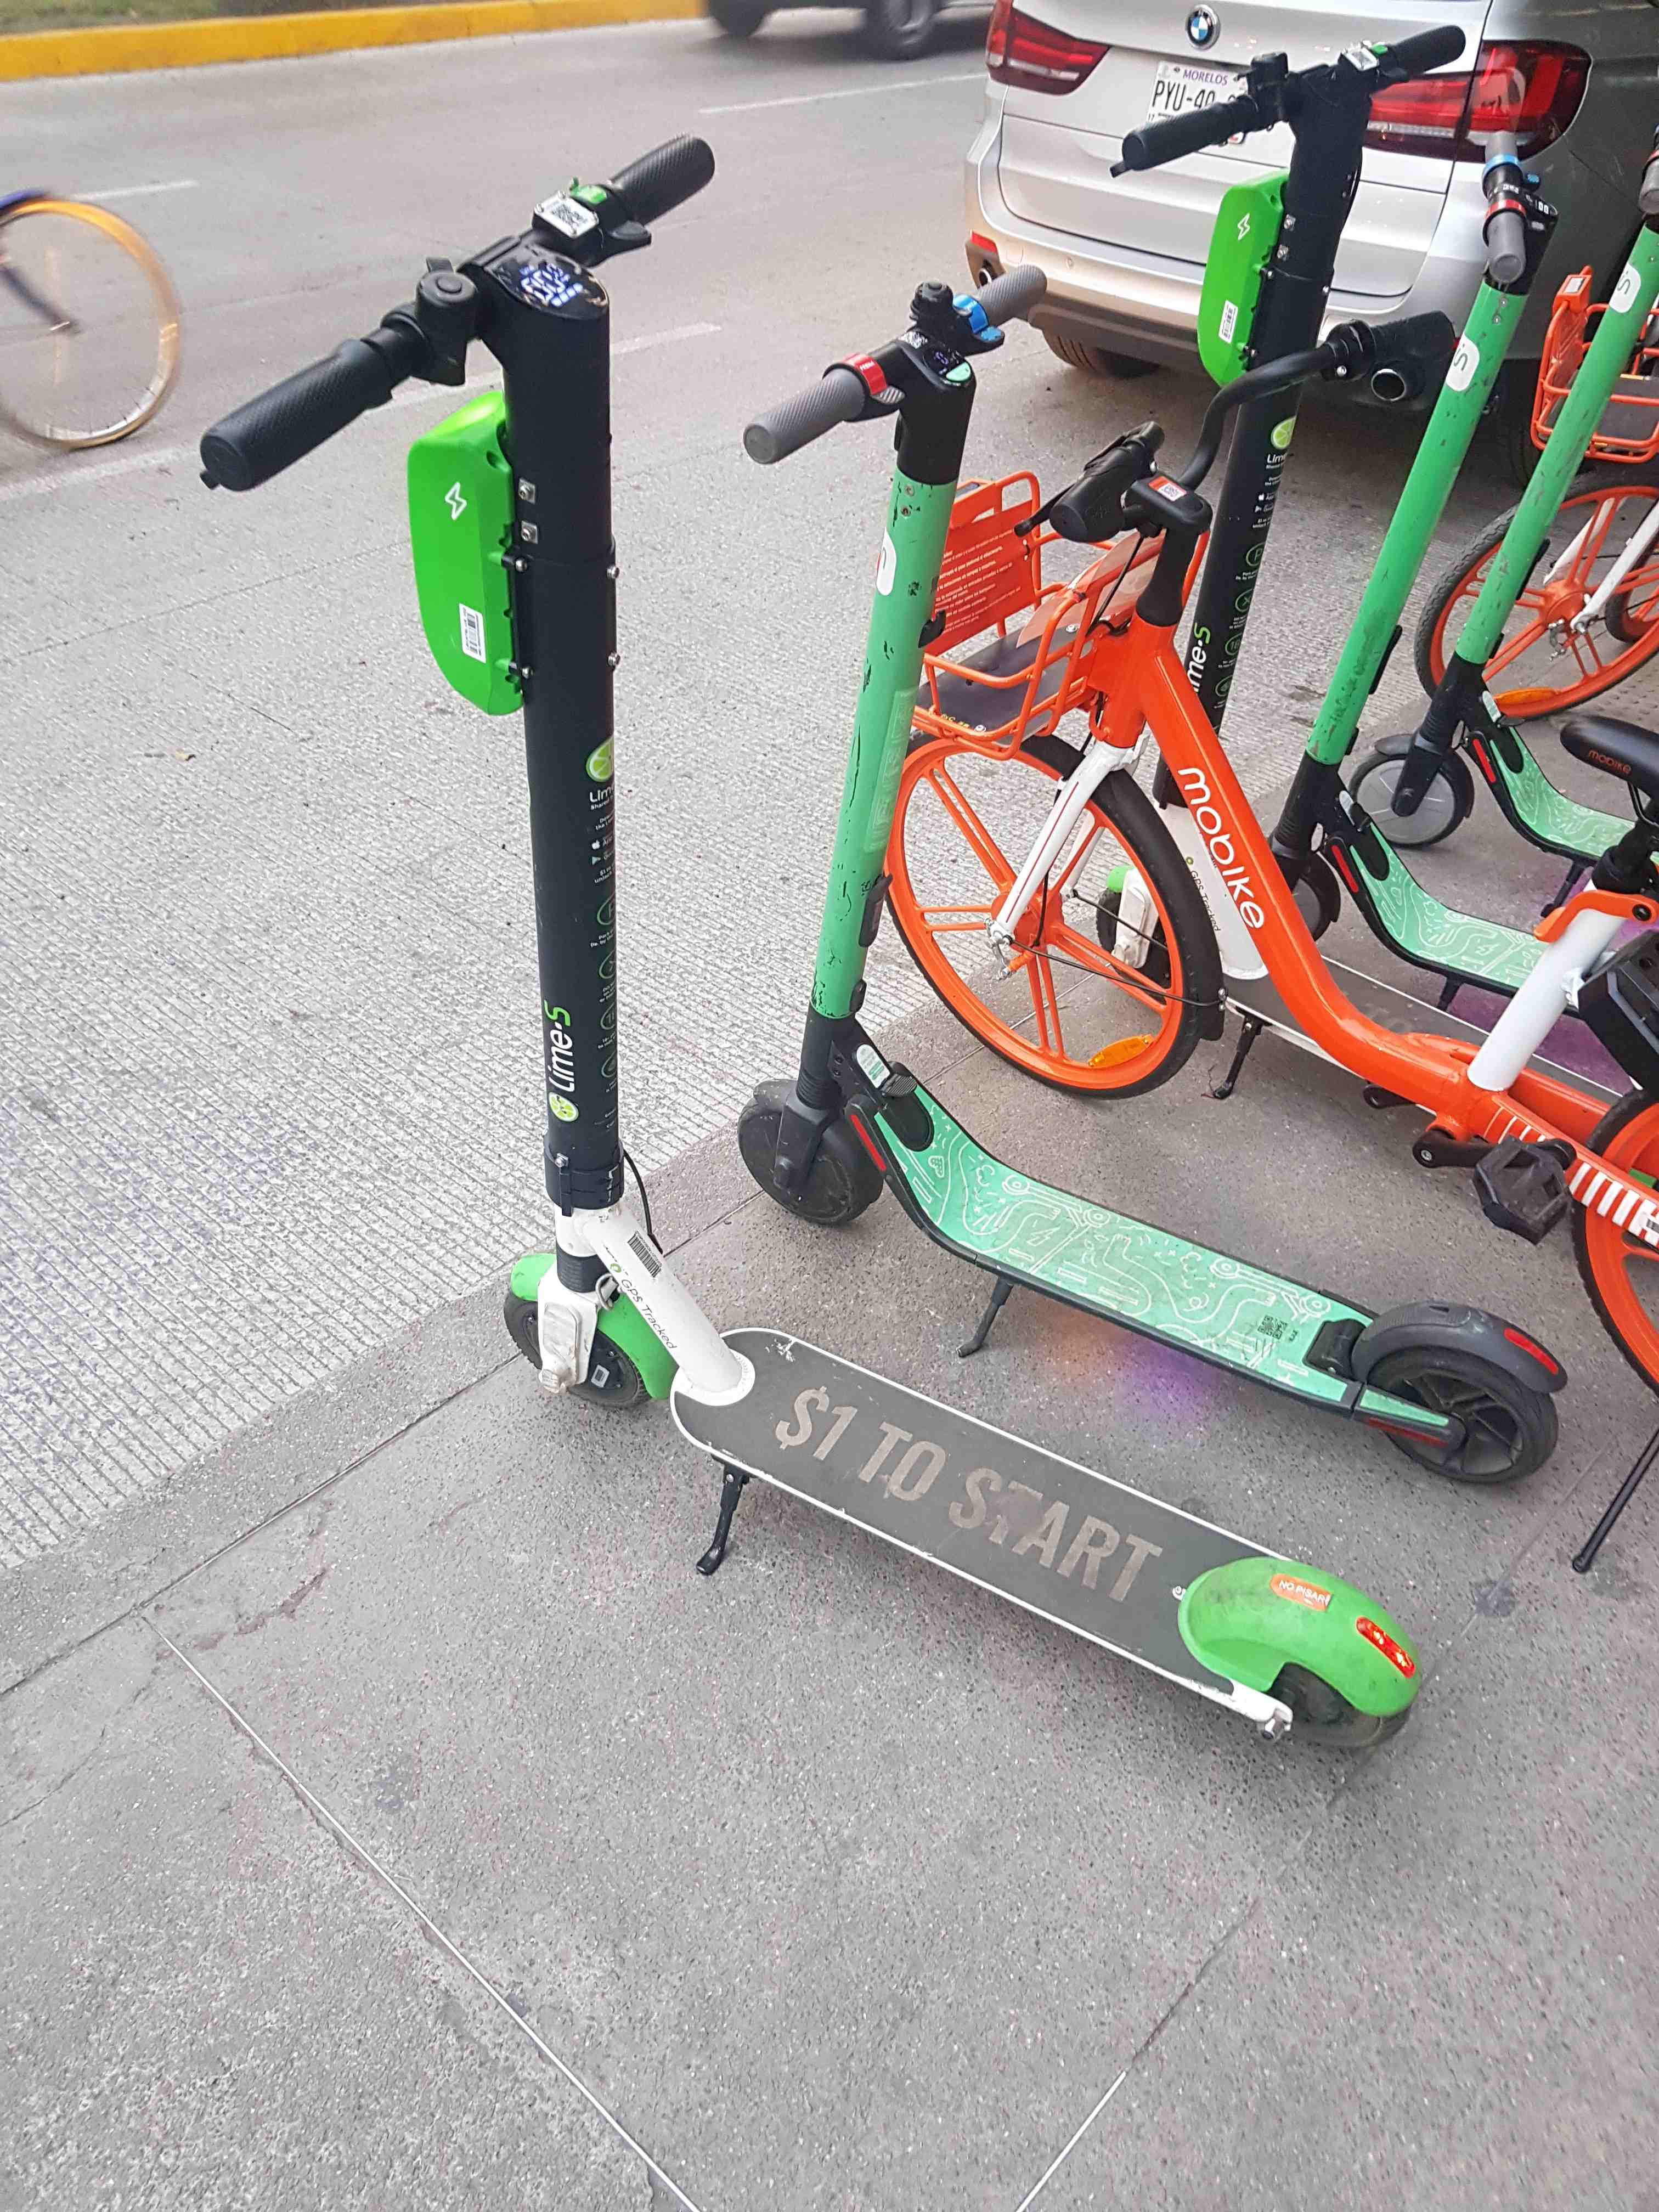scooter: (145, 132, 1462, 1841)
